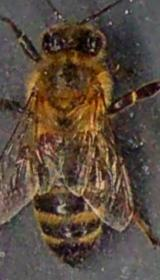varroa_mite: (34, 130, 64, 158)
